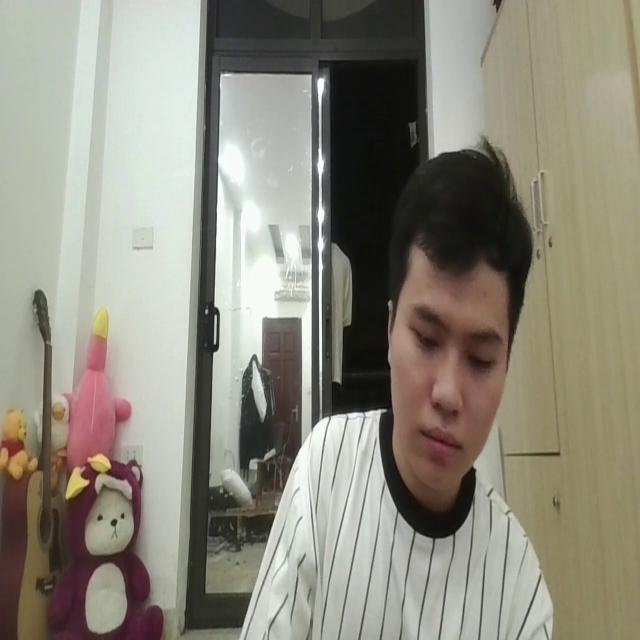student: (239, 139, 556, 640)
